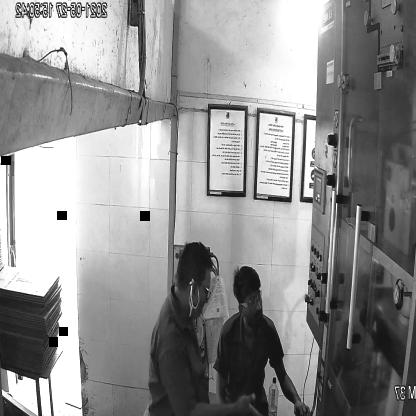goggles: (235, 289, 264, 313)
